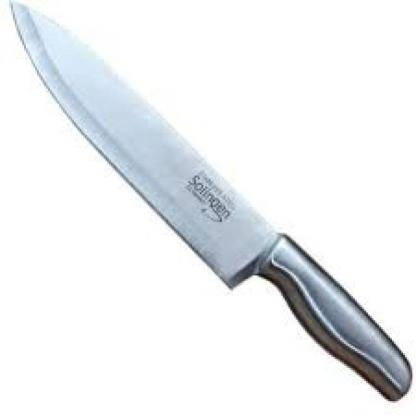Knife: (5, 7, 413, 412)
